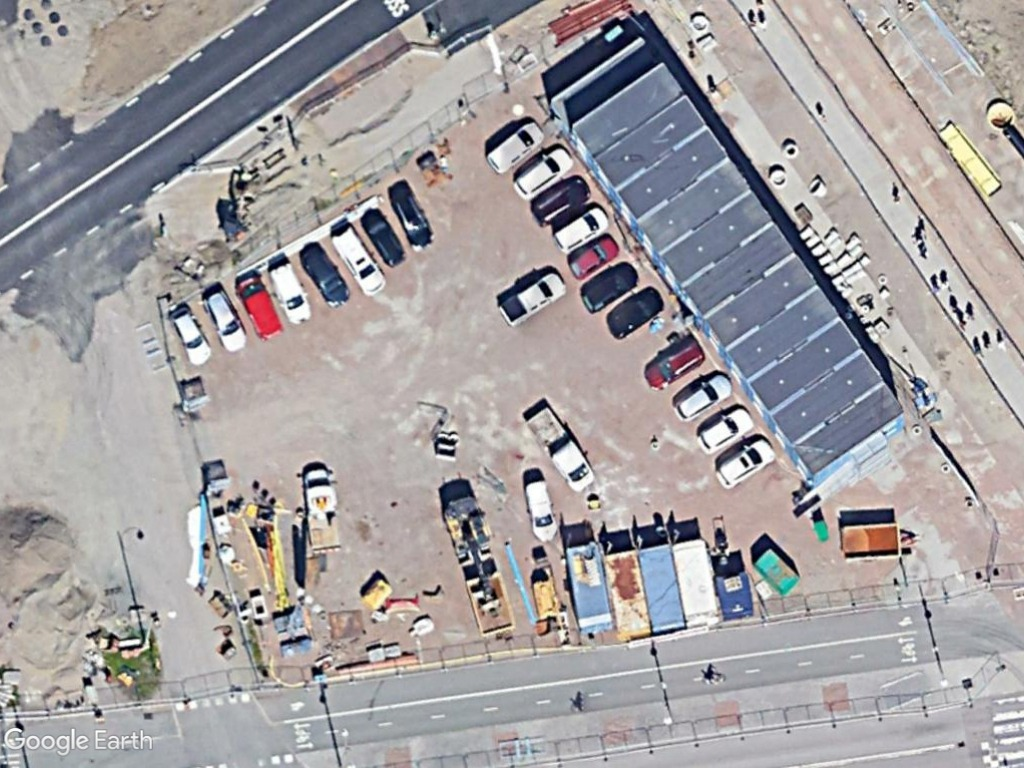car: (524, 166, 596, 230), (666, 362, 735, 428), (707, 431, 778, 495), (479, 113, 546, 180), (510, 140, 577, 207), (639, 332, 708, 396), (261, 256, 319, 332), (197, 283, 252, 361), (576, 253, 641, 319), (689, 396, 755, 461), (599, 279, 666, 342), (546, 197, 613, 259), (355, 204, 413, 273), (295, 245, 354, 312), (164, 299, 217, 372), (391, 184, 444, 256), (562, 229, 622, 288), (519, 475, 563, 547)
other: (516, 402, 600, 497), (497, 262, 570, 332), (328, 222, 391, 300)
van: (232, 272, 288, 346)
